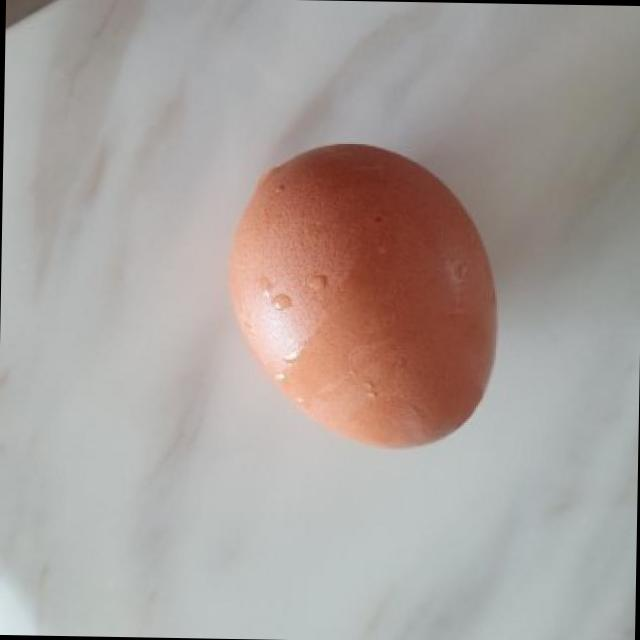eggs: (223, 132, 509, 458)
